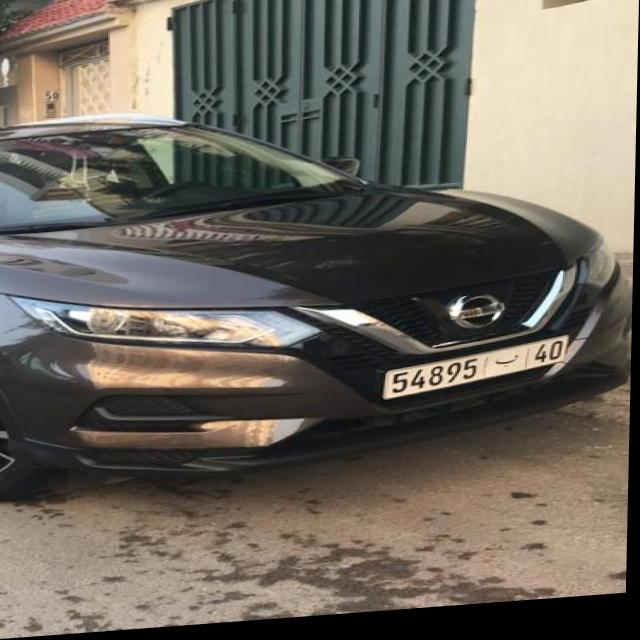License-Plate: (386, 344, 571, 405)
